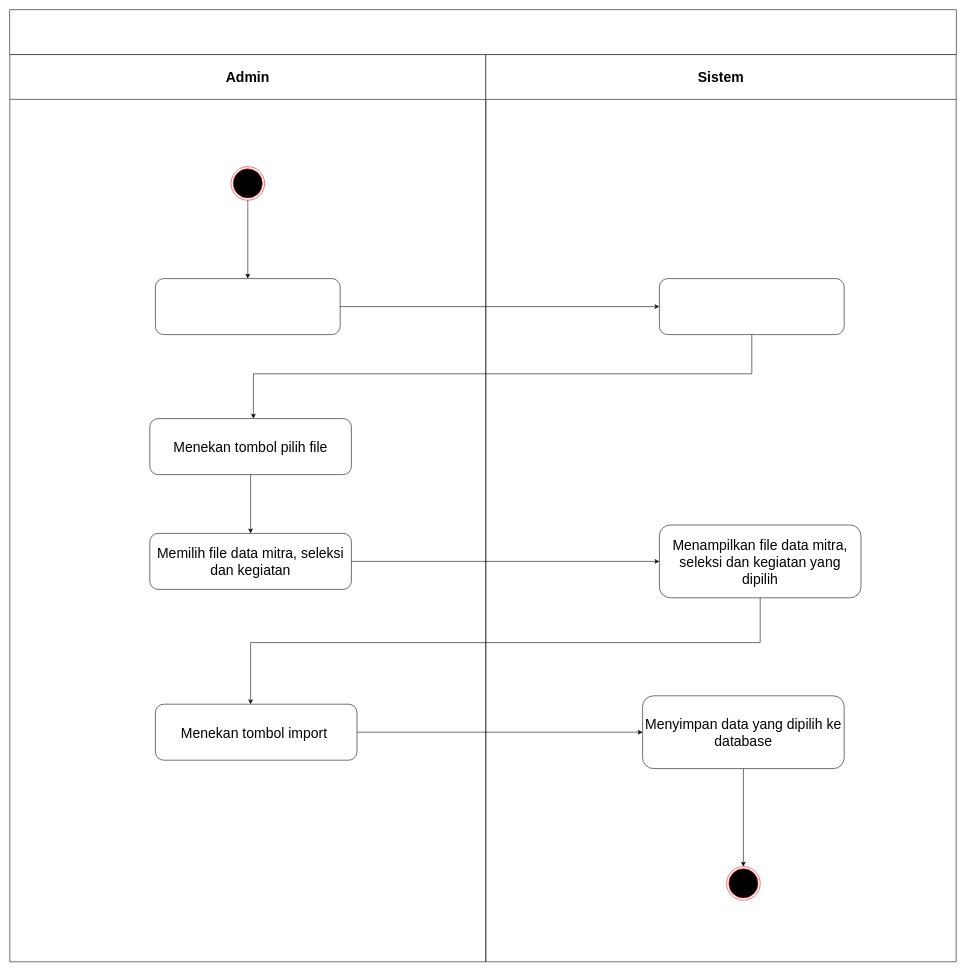
Image size: 966x972. Some labels were removed from this diagram. Each missing label, with the centre of its shape:
"Activity Admin Import Data mitra,seleksi dan kegiatan" belongs at point 482,32.
"Memasuki menu import data file excel" belongs at point 247,306.
"Menampilkan halaman import data file excel" belongs at point 751,306.
